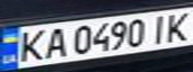0: (124, 16, 151, 47), (69, 22, 93, 55)
4: (90, 19, 112, 53)
9: (109, 19, 130, 52)
A: (39, 25, 69, 60)
I: (145, 11, 172, 44)
K: (12, 27, 48, 63), (160, 9, 193, 43)
